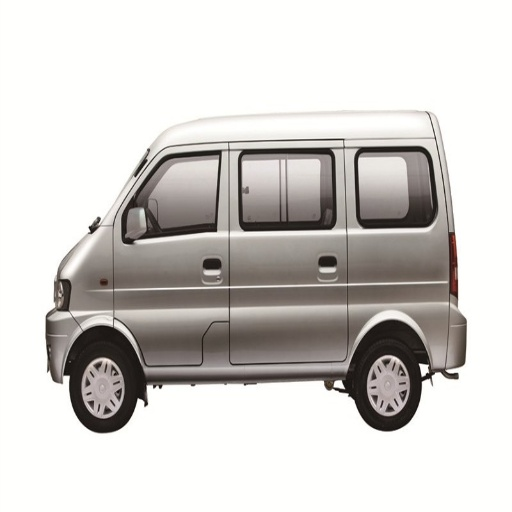back_left_door: (229, 146, 325, 358)
trunk: (335, 283, 455, 368), (370, 238, 437, 267)
